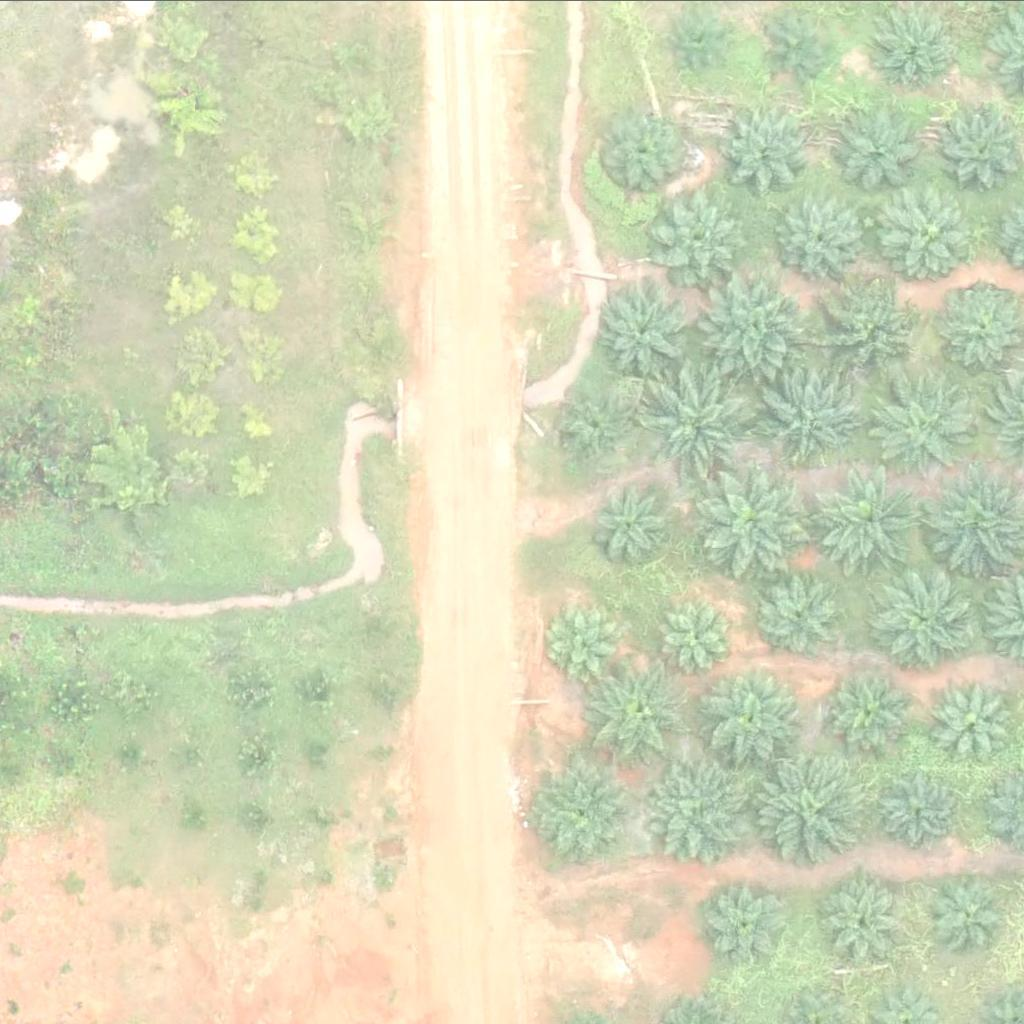Kelapa_Sawit: (629, 351, 754, 476), (646, 748, 760, 861), (753, 742, 867, 855), (693, 461, 806, 574), (812, 456, 925, 569), (533, 760, 634, 860), (584, 662, 685, 762), (759, 361, 860, 461), (874, 371, 975, 471), (705, 273, 806, 373), (821, 281, 922, 381), (704, 662, 804, 762), (871, 565, 971, 665), (883, 187, 972, 275), (603, 284, 691, 372), (870, 4, 958, 92), (589, 478, 678, 565), (542, 590, 630, 677), (657, 194, 745, 281), (782, 192, 870, 279), (724, 104, 812, 191), (837, 106, 925, 193), (827, 881, 903, 956), (603, 111, 679, 186), (707, 886, 783, 961), (880, 766, 956, 841), (833, 674, 909, 749), (937, 679, 1013, 754), (766, 572, 842, 647), (659, 597, 734, 672), (927, 873, 1002, 948), (769, 13, 832, 75), (566, 390, 629, 452), (679, 15, 729, 65)
